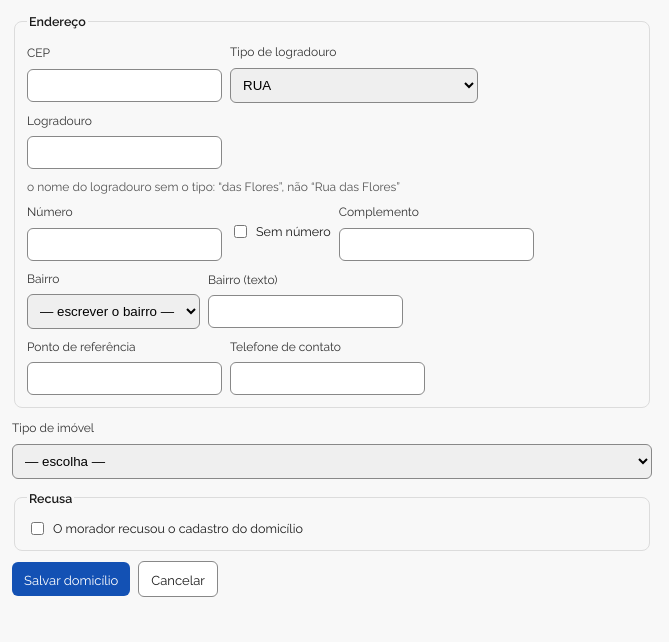
HouseholdForm › 422 invalid_household com path mostra a frase e marca o campo
Type "81020-000" into the field labelled "CEP" at (124, 85), box top-left (27, 68), bottom-right (222, 102)
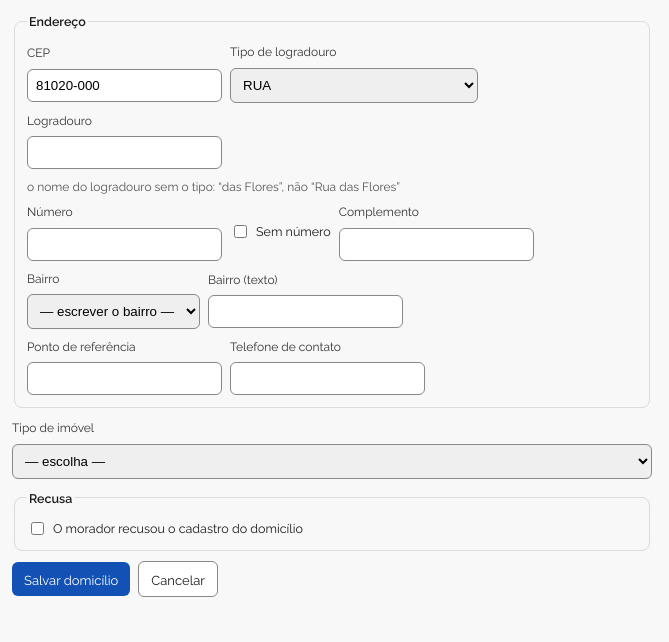
Select "RUA" in the dropdown labelled "Tipo de logradouro" at (354, 85), box top-left (230, 68), bottom-right (478, 102)
Type "das Flores" into the field labelled "Logradouro" at (124, 152), box top-left (27, 136), bottom-right (222, 169)
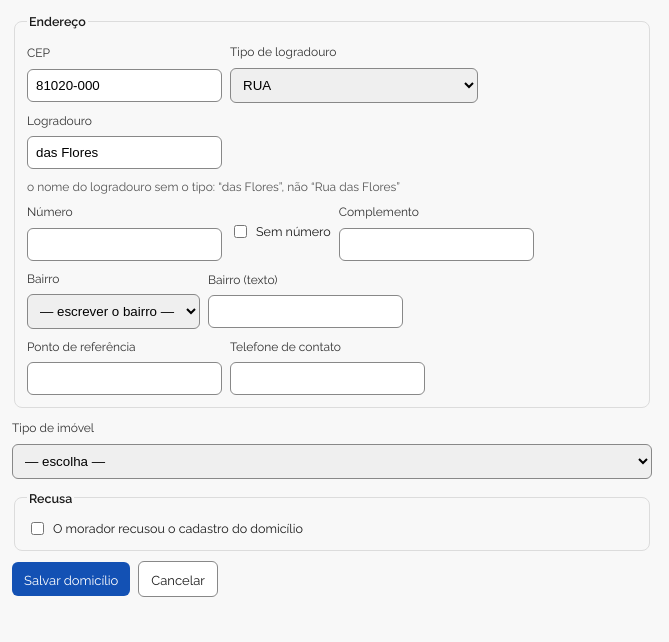
Type "120" into the field labelled "Número" at (124, 244), box top-left (27, 228), bottom-right (222, 261)
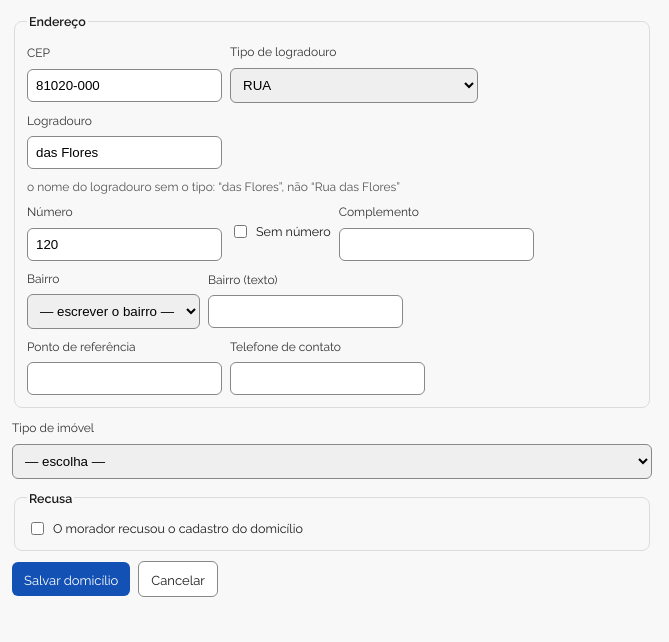
Select "Vila Verde" in the dropdown labelled "Bairro" at (114, 312), box top-left (27, 294), bottom-right (200, 329)
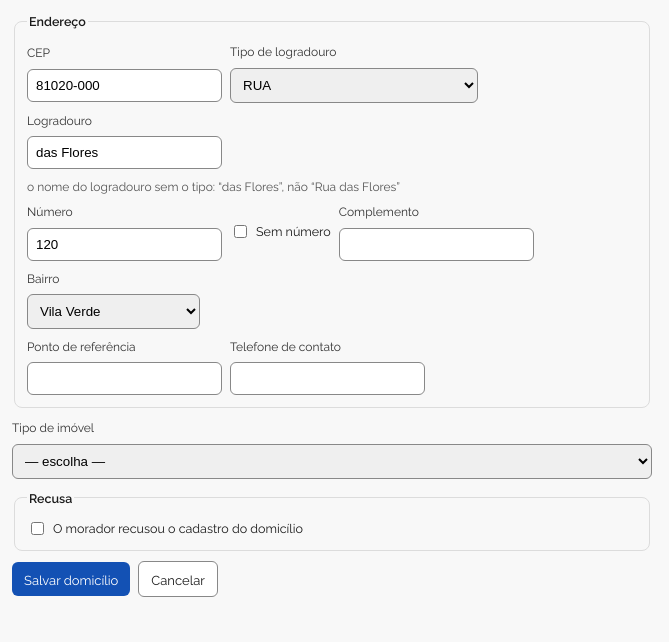
Select "Comércio" in the dropdown labelled "Tipo de imóvel" at (332, 461), box top-left (12, 444), bottom-right (652, 479)
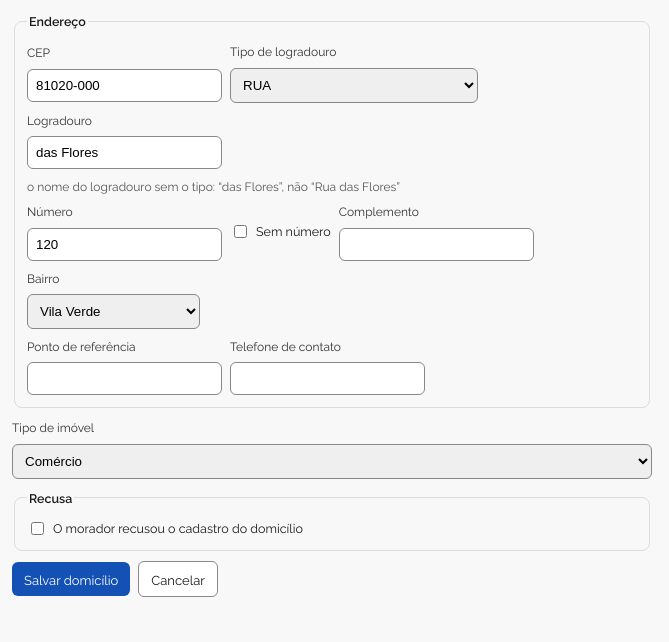
Click the button "Salvar domicílio" at (71, 579), box top-left (12, 562), bottom-right (130, 596)
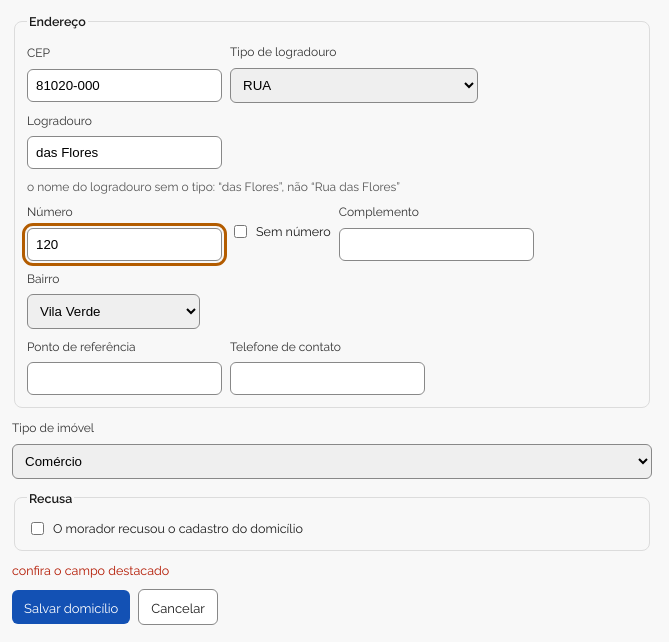
Expected: the text "confira o campo destacado" is shown, top-left (12, 561), bottom-right (169, 578)
